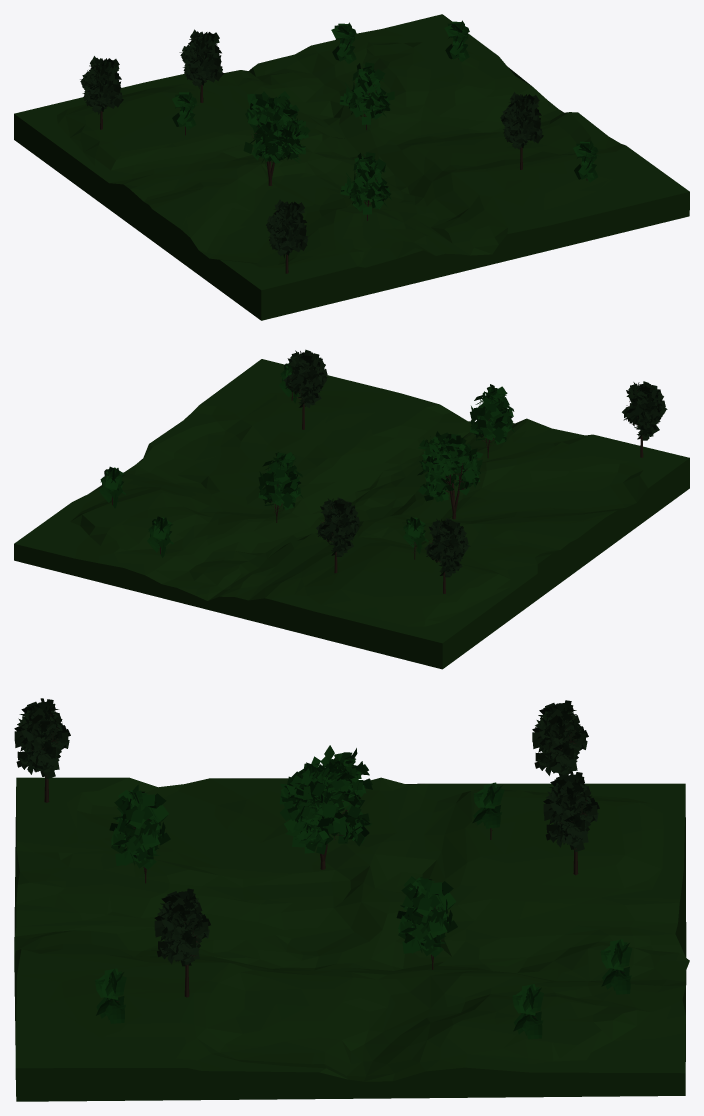
Rendered from Environment_NoPlants.obj.
3 views of the same model, one above another, from view 1: azimuth 30°, elevation 25°; view 2: azimuth 150°, elevation 25°; view 3: azimuth 270°, elevation 25° (orthographic). The views are drawn at different scales.
Visible parts, largest first — view 1: Cube, leaf003.009, leaf003.008, leaf003.007, leaf003.027, leaf003.004, leaf003.006, leaf003.005, leaf003.001, leaf003.003, leaf003.041, leaf003.002; view 2: Cube, leaf003.009, leaf003.007, leaf003.008, leaf003.004, leaf003.006, leaf003.027, leaf003.005, leaf003.003, leaf003.041, leaf003.002; view 3: Cube, leaf003.009, leaf003.008, leaf003.007, leaf003.004, leaf003.027, leaf003.005, leaf003.006, leaf003.041, leaf003.003, leaf003.001, leaf003.002.
Boxes of the visible parts, left/top/right/bottom form: Cube: left=14, top=14, right=689, bottom=320; leaf003.009: left=243, top=91, right=310, bottom=166; leaf003.008: left=339, top=62, right=394, bottom=124; leaf003.007: left=340, top=152, right=391, bottom=214; leaf003.027: left=179, top=29, right=223, bottom=88; leaf003.004: left=266, top=199, right=308, bottom=258; leaf003.006: left=80, top=56, right=123, bottom=114; leaf003.005: left=500, top=92, right=543, bottom=149; leaf003.001: left=573, top=140, right=599, bottom=182; leaf003.003: left=331, top=22, right=358, bottom=63; leaf003.041: left=444, top=20, right=471, bottom=61; leaf003.002: left=172, top=92, right=198, bottom=129; Cube: left=14, top=359, right=689, bottom=669; leaf003.009: left=417, top=431, right=483, bottom=502; leaf003.007: left=470, top=384, right=514, bottom=444; leaf003.008: left=258, top=452, right=303, bottom=510; leaf003.004: left=622, top=381, right=667, bottom=440; leaf003.006: left=424, top=518, right=470, bottom=577; leaf003.027: left=316, top=497, right=361, bottom=556; leaf003.005: left=283, top=349, right=329, bottom=408; leaf003.003: left=147, top=516, right=173, bottom=557; leaf003.041: left=99, top=466, right=125, bottom=508; leaf003.002: left=403, top=517, right=428, bottom=553; Cube: left=14, top=777, right=689, bottom=1101; leaf003.009: left=279, top=745, right=372, bottom=854; leaf003.008: left=396, top=876, right=457, bottom=957; leaf003.007: left=109, top=784, right=170, bottom=869; leaf003.004: left=14, top=698, right=70, bottom=779; leaf003.027: left=543, top=771, right=599, bottom=851; leaf003.005: left=154, top=888, right=210, bottom=966; leaf003.006: left=532, top=700, right=588, bottom=776; leaf003.041: left=512, top=984, right=543, bottom=1039; leaf003.003: left=600, top=939, right=632, bottom=994; leaf003.001: left=95, top=968, right=126, bottom=1023; leaf003.002: left=472, top=782, right=504, bottom=828.
Bounding box in the file's own units: 80.18 × 19.65 × 80.79.
